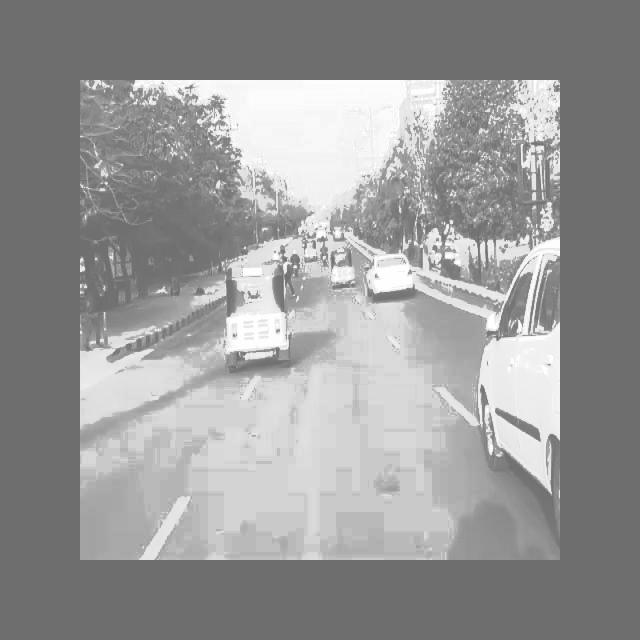Auto-Rickshaw: (203, 264, 302, 364), (328, 245, 362, 293)
Car: (469, 235, 565, 537), (362, 244, 420, 302)
